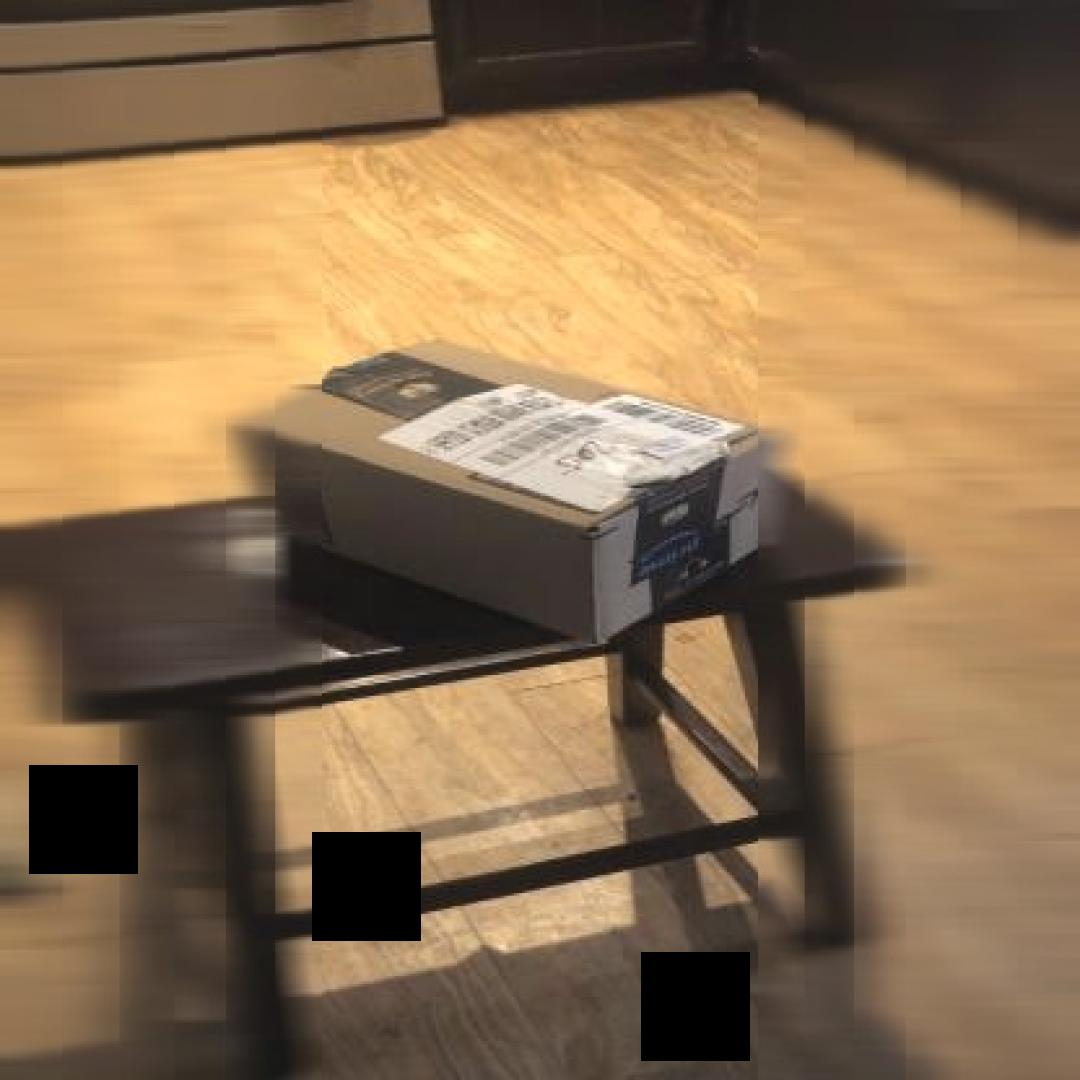package: (226, 335, 782, 649)
